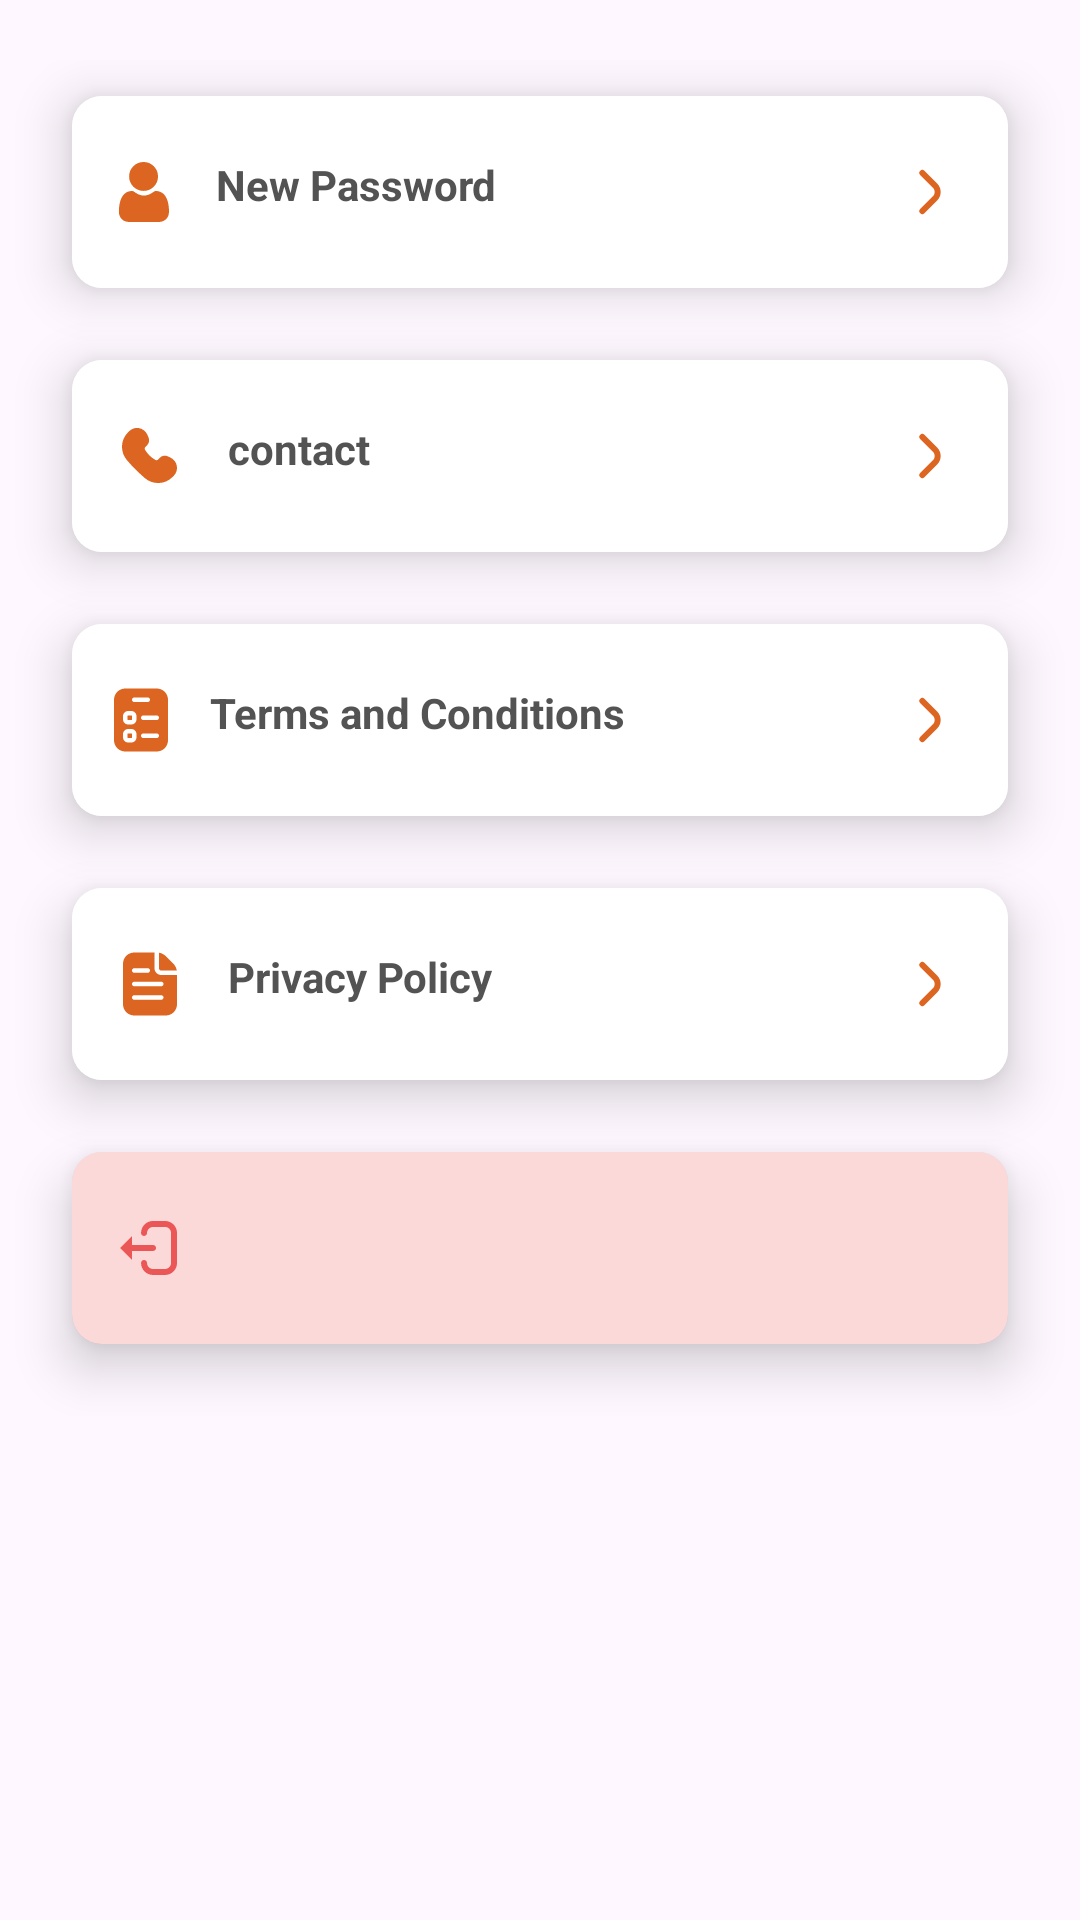

Point at icon controls on the screen. Image size 1080*1920, points as (x=x, y=y).
call: (x=149, y=455)
privecy: (x=150, y=984)
user: (x=144, y=192)
